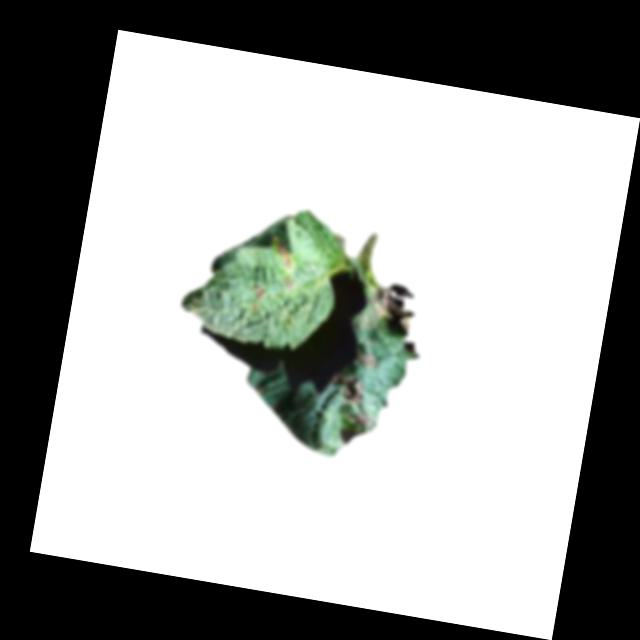Early_blight: (363, 279, 420, 339), (329, 371, 367, 405), (271, 240, 295, 269), (355, 352, 380, 371), (349, 411, 374, 430), (281, 274, 294, 290), (254, 287, 263, 299)
